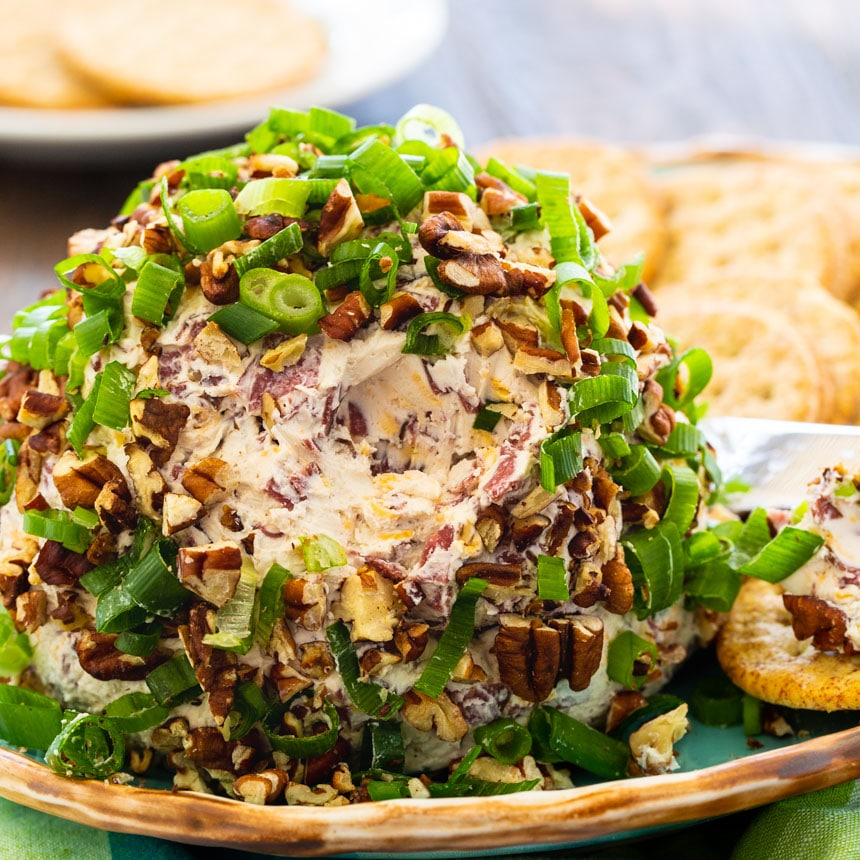cheese: (214, 397, 412, 574)
